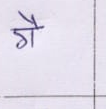ai_matra: (18, 11, 41, 27)
